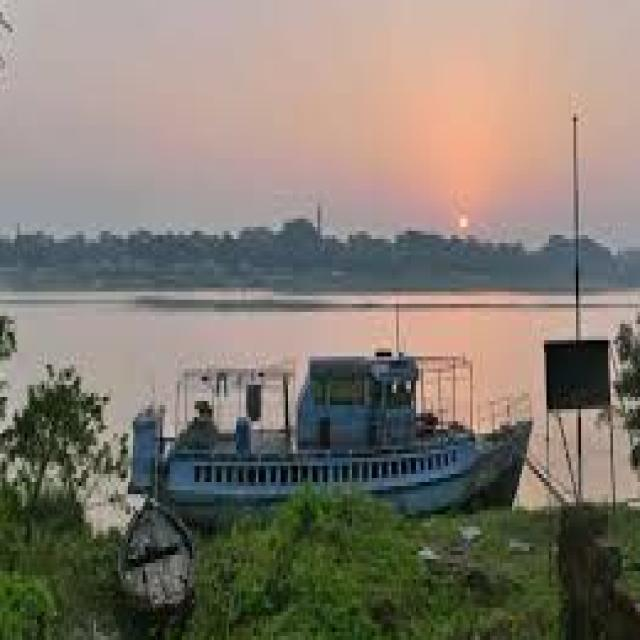fishing boat: (119, 334, 539, 522)
